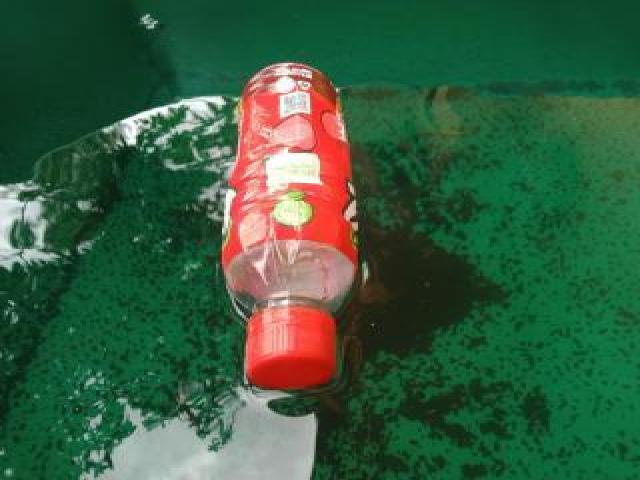Bottle: (210, 57, 370, 394)
